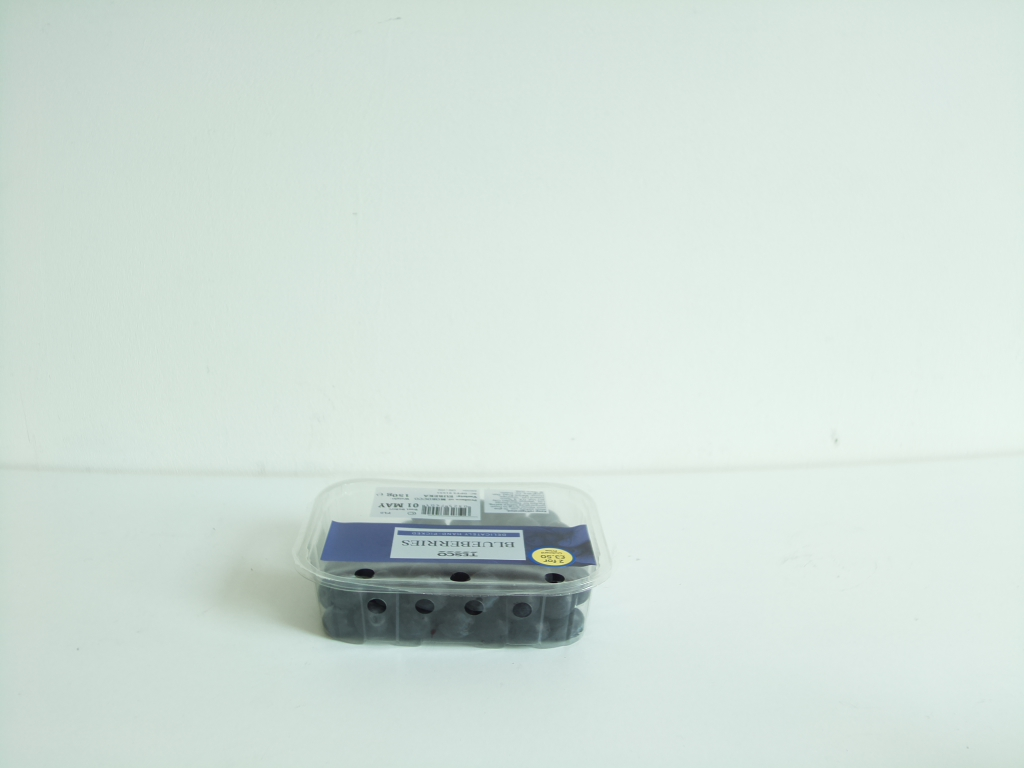soft-fruit: (298, 480, 617, 647)
